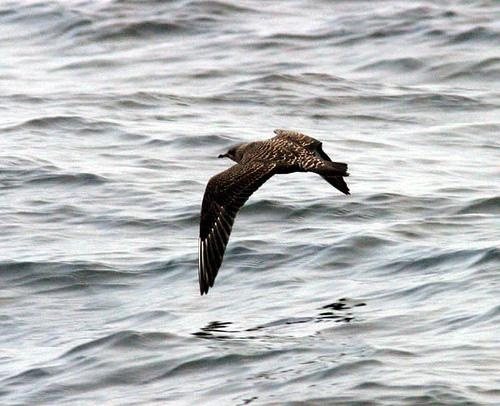bird: (195, 123, 351, 296)
